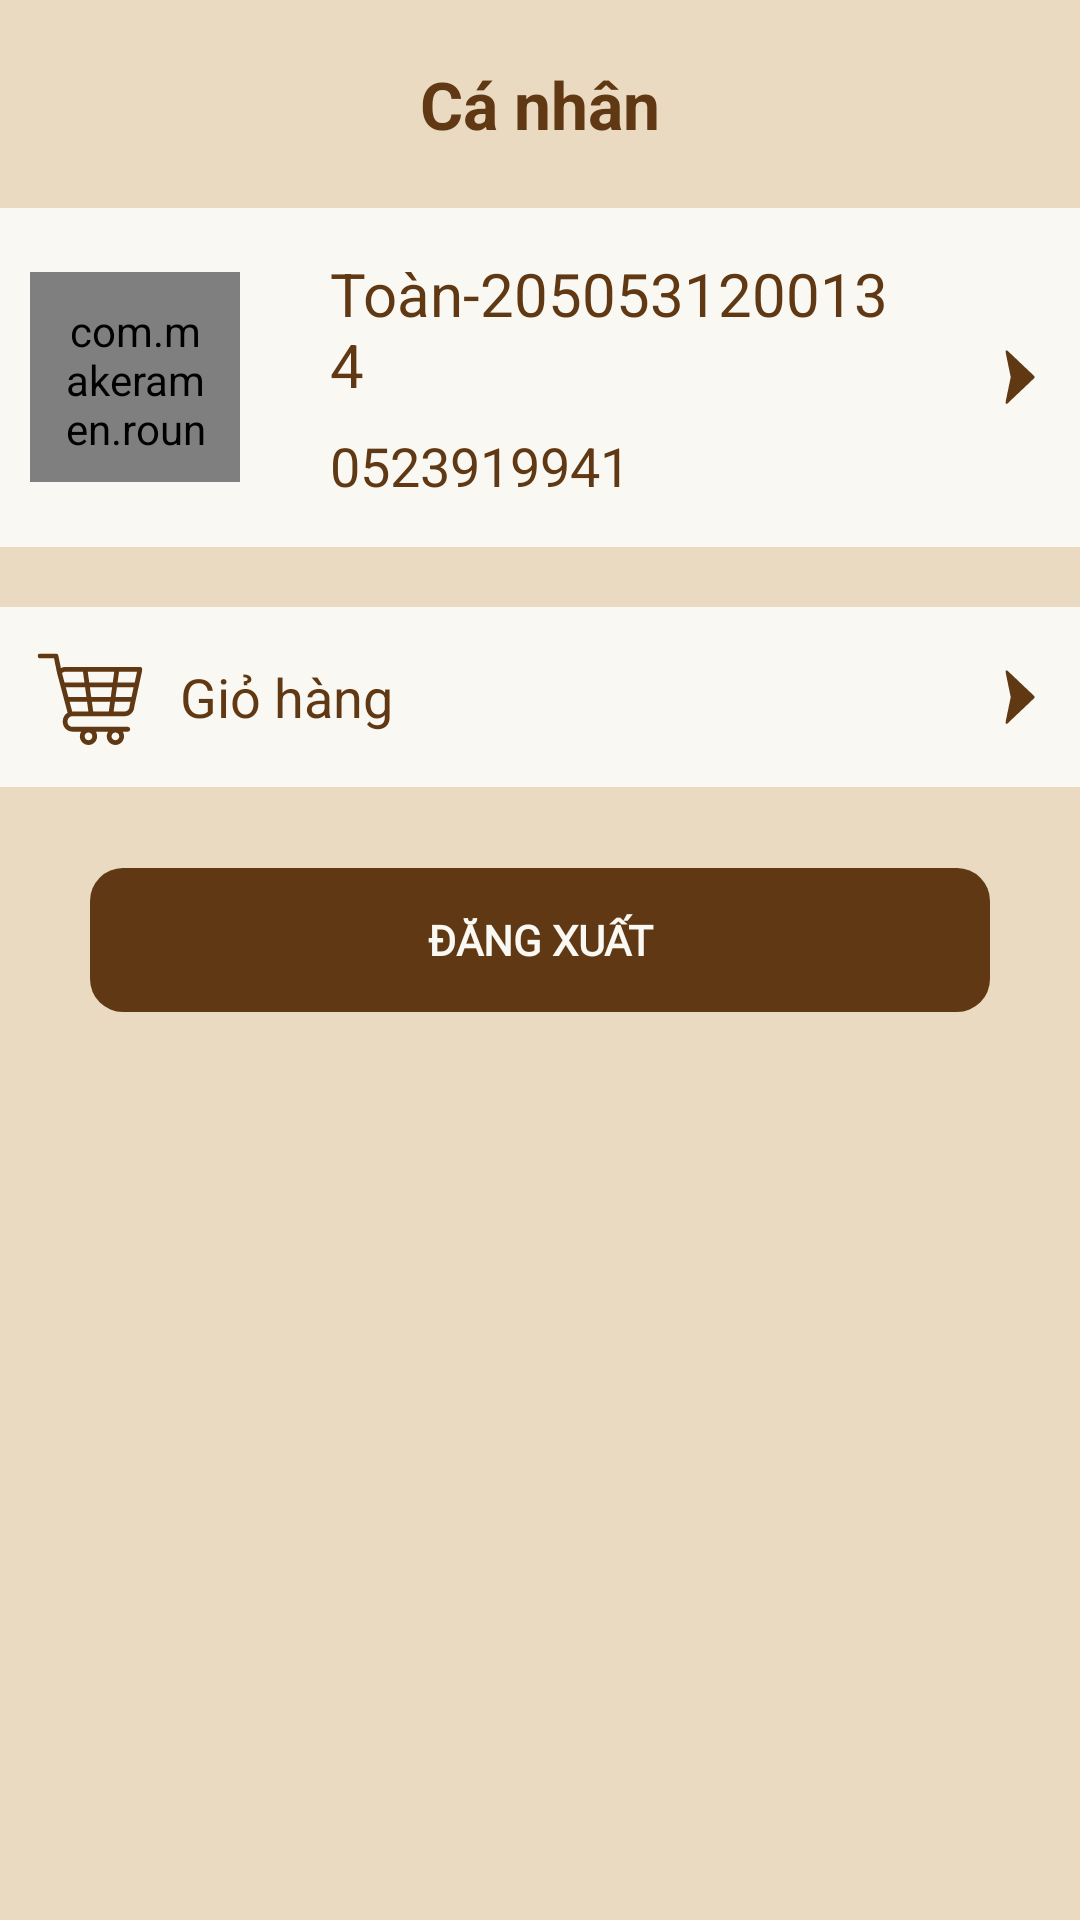

Point at icon controls on the screen. Image size 1080*1920, points as (x,y).
cart: (90,699)
